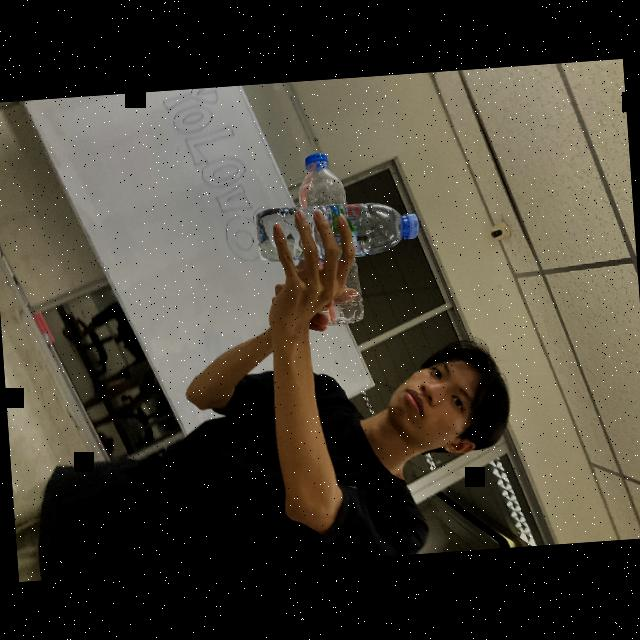plastic_bottle: (293, 152, 364, 328), (252, 196, 420, 266)
plastic_bottle_cap: (396, 212, 418, 243), (304, 154, 328, 172)
